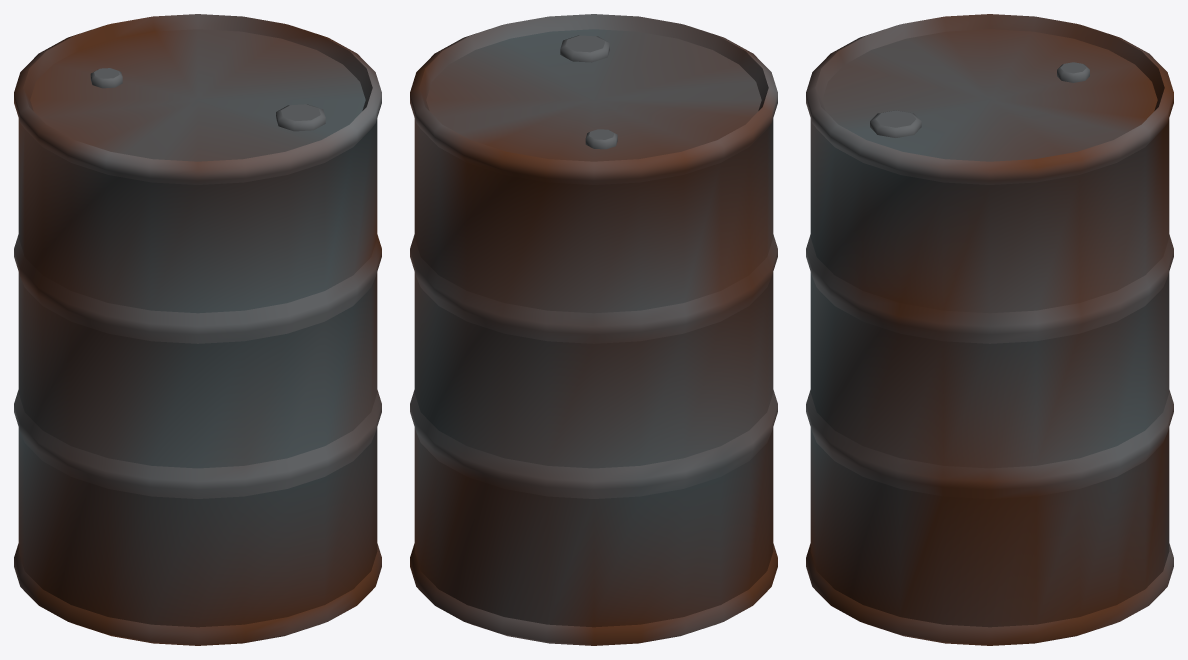
The model's file is drum.steel.rusty.glb.
3 views of the same model, side by side, from view 1: azimuth 30°, elevation 25°; view 2: azimuth 150°, elevation 25°; view 3: azimuth 270°, elevation 25° (orthographic).
Parts seen in each view (by area): view 1: drum_steel_rusty; view 2: drum_steel_rusty; view 3: drum_steel_rusty.
Boxes of the visible parts, x1,y1,x2,y2 form: drum_steel_rusty: (14,14,381,645); drum_steel_rusty: (410,14,777,645); drum_steel_rusty: (806,14,1173,645).
Size of what is drawn, in the model's own units: 0.653 by 0.95 by 0.653.
